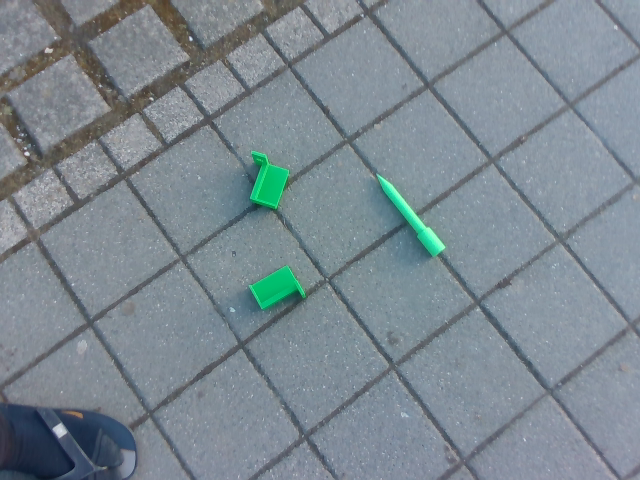Probe: (370, 166, 449, 264)
